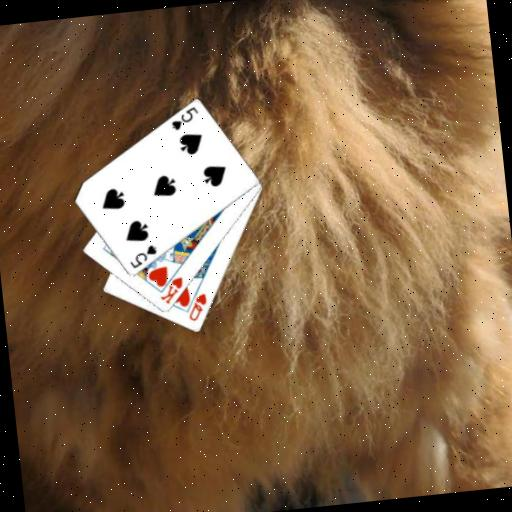5S: (126, 242, 161, 272), (167, 103, 202, 133)
KH: (155, 274, 187, 307)
QH: (184, 290, 211, 324)
